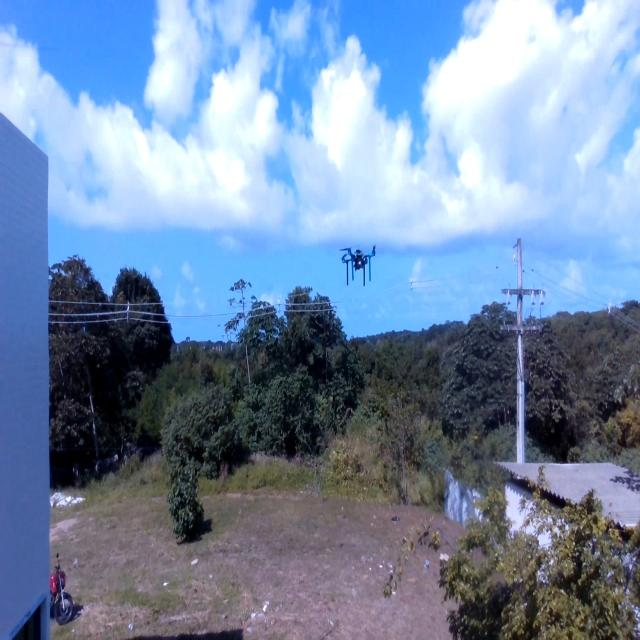-uav-: (332, 229, 389, 299)
